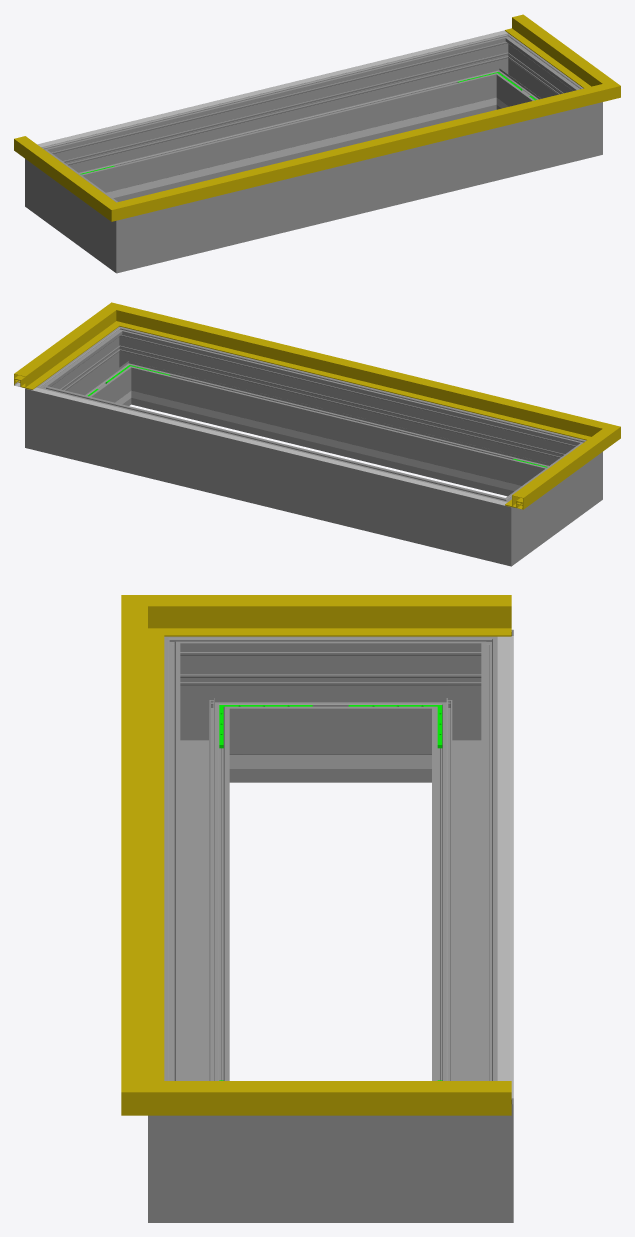
3 renders of one model, top to bottom at view 1: azimuth 30°, elevation 25°; view 2: azimuth 150°, elevation 25°; view 3: azimuth 270°, elevation 25°, orthographic. The views are drawn at different scales.
Visible parts, largest first — view 1: 3DGeom-276, 3DGeom-298, 3DGeom-123, 3DGeom-270, 3DGeom-244, 3DGeom-284, 3DGeom-290, 3DGeom-128, 3DGeom-268, 3DGeom-297, 3DGeom-220, 3DGeom-278 (+4 smaller); view 2: 3DGeom-298, 3DGeom-276, 3DGeom-123, 3DGeom-278, 3DGeom-284, 3DGeom-239, 3DGeom-290, 3DGeom-128, 3DGeom-297, 3DGeom-268, 3DGeom-220, 3DGeom-118 (+4 smaller); view 3: 3DGeom-276, 3DGeom-298, 3DGeom-268, 3DGeom-297, 3DGeom-123, 3DGeom-118, 3DGeom-284, 3DGeom-290, 3DGeom-128, 3DGeom-278, 3DGeom-270, 3DGeom-220 (+4 smaller).
Boxes of the visible parts, x1,y1,x2,y2 form: 3DGeom-276: (71,42,489,201); 3DGeom-298: (159,112,560,262); 3DGeom-123: (148,91,578,211); 3DGeom-270: (92,193,158,273); 3DGeom-244: (121,107,455,195); 3DGeom-284: (473,33,528,111); 3DGeom-290: (560,79,602,164); 3DGeom-128: (505,14,595,83); 3DGeom-268: (49,162,105,255); 3DGeom-297: (500,48,571,108); 3DGeom-220: (37,30,507,147); 3DGeom-278: (25,140,87,224); 3DGeom-298: (138,335,556,496); 3DGeom-276: (67,393,476,555); 3DGeom-123: (143,313,577,435); 3DGeom-278: (469,486,535,566); 3DGeom-284: (25,372,75,458); 3DGeom-239: (172,400,505,488); 3DGeom-290: (99,326,154,405); 3DGeom-128: (14,320,105,389); 3DGeom-297: (56,341,127,405); 3DGeom-268: (522,455,578,548); 3DGeom-220: (31,387,507,505); 3DGeom-118: (505,442,596,509); 3DGeom-276: (432,671,513,1080); 3DGeom-298: (164,671,229,1080); 3DGeom-268: (246,636,415,782); 3DGeom-297: (246,1115,415,1222); 3DGeom-123: (121,636,164,1072); 3DGeom-118: (219,595,511,636); 3DGeom-284: (415,1063,513,1222); 3DGeom-290: (148,1063,245,1222); 3DGeom-128: (219,1081,511,1115); 3DGeom-278: (415,629,513,782); 3DGeom-270: (164,636,245,782); 3DGeom-220: (497,636,513,1099).
Size of the model in its own units: 1.83 by 0.2434 by 0.6096.
